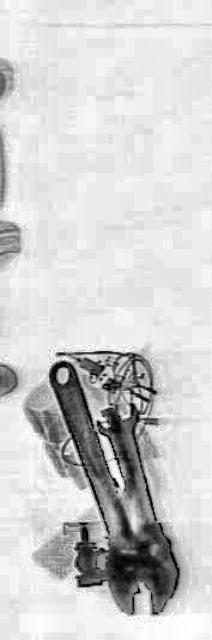Wrench: (42, 324, 162, 638), (93, 358, 183, 636)
